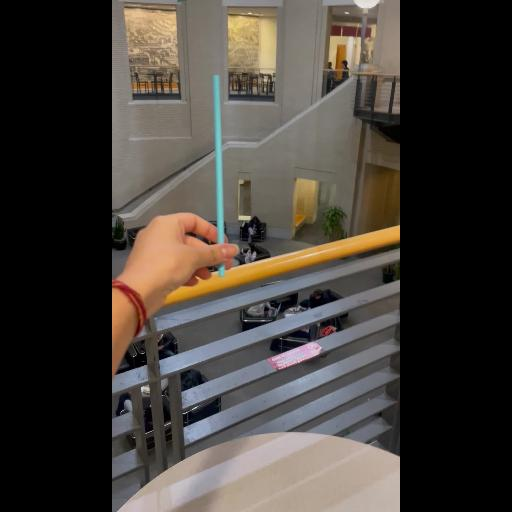straw: (196, 68, 246, 286)
